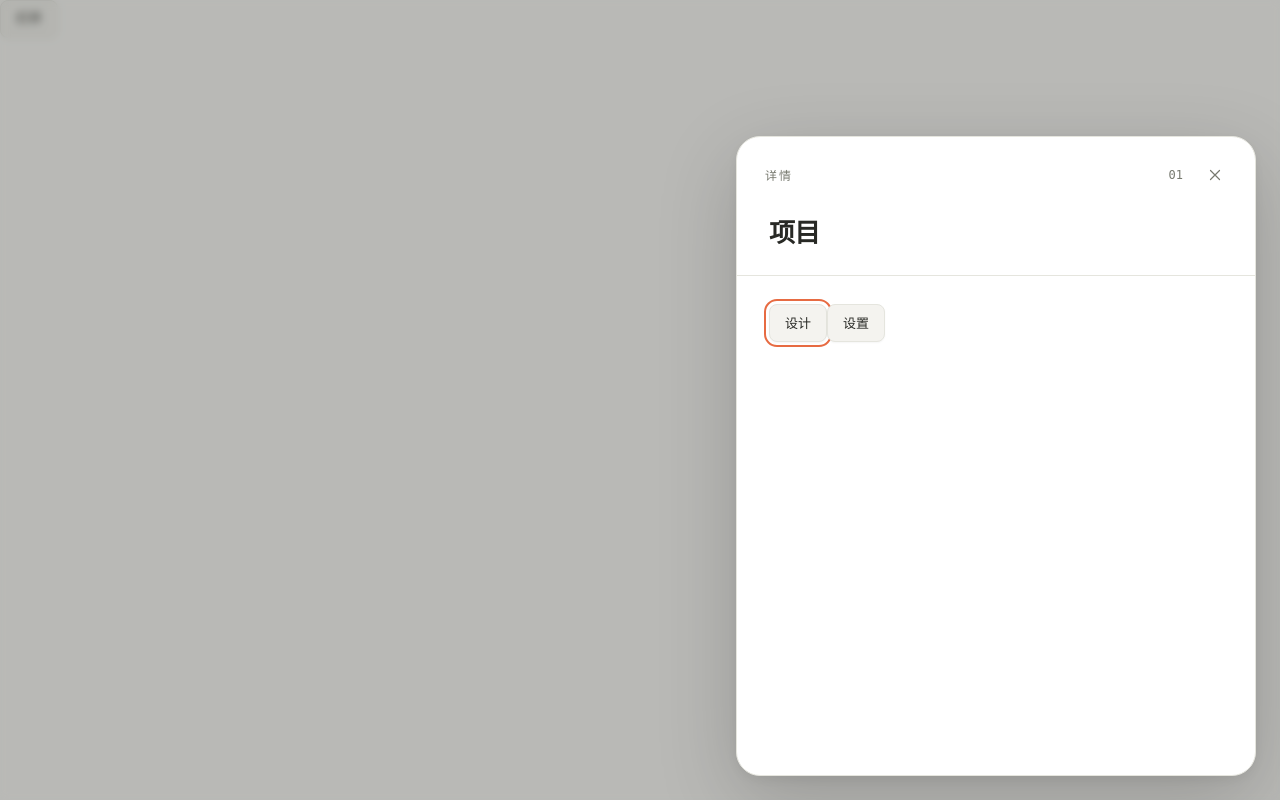
Test case: supports controlled dismissal, defaultOpen and independent sibling drawers
Expected: the dialog "项目" is shown, [736,136,1256,776]
Click the button "设置".
click(856, 323)  # box [827,304,885,342]
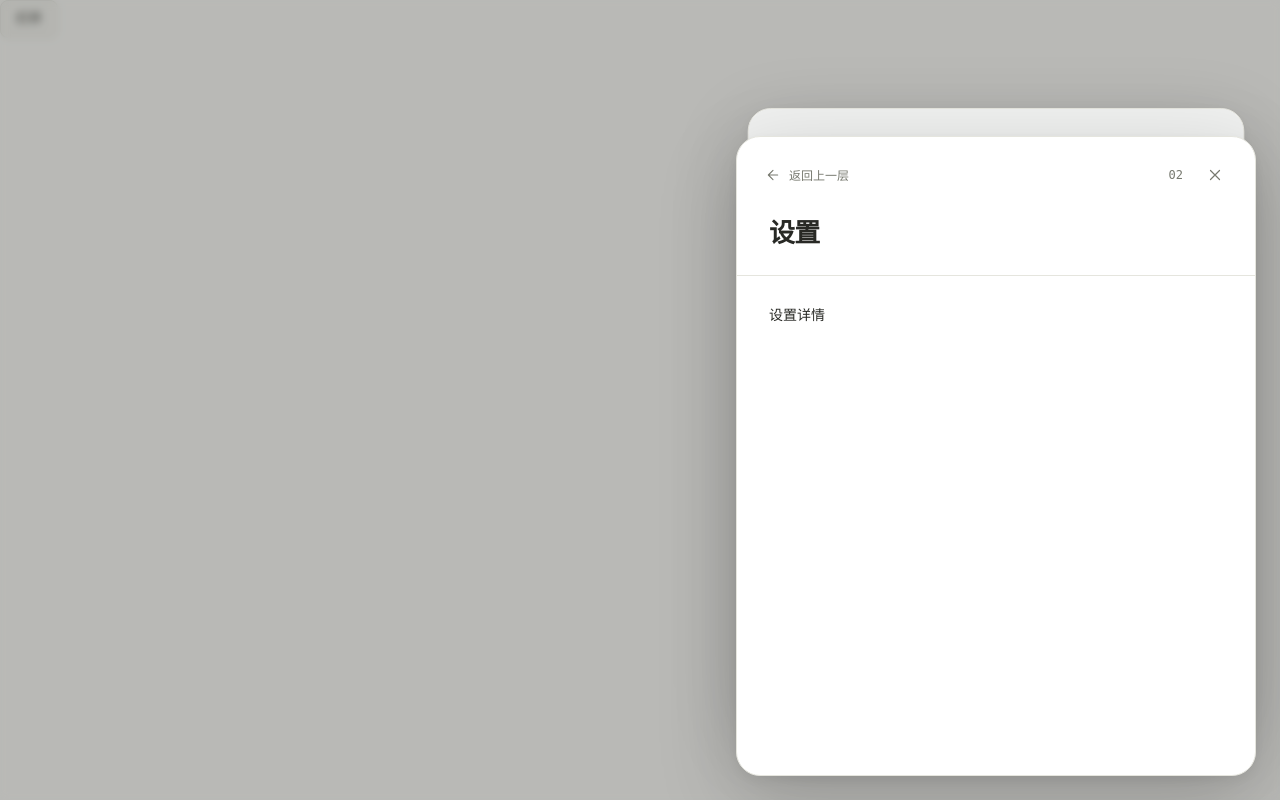
Now the dialog "设置" is shown, box [736,136,1256,776]
Press Escape
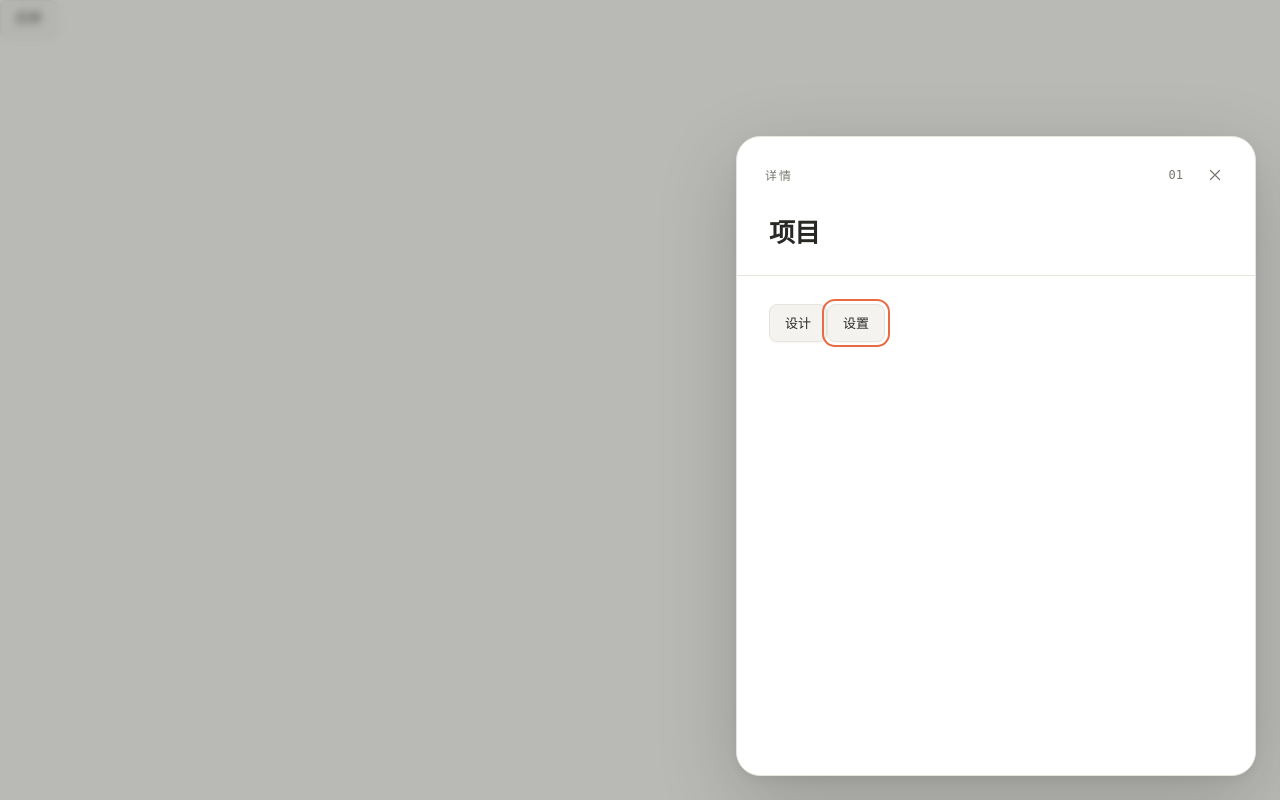
Now the dialog "项目" does not have attribute inert, box [736,136,1256,776]
Press Escape
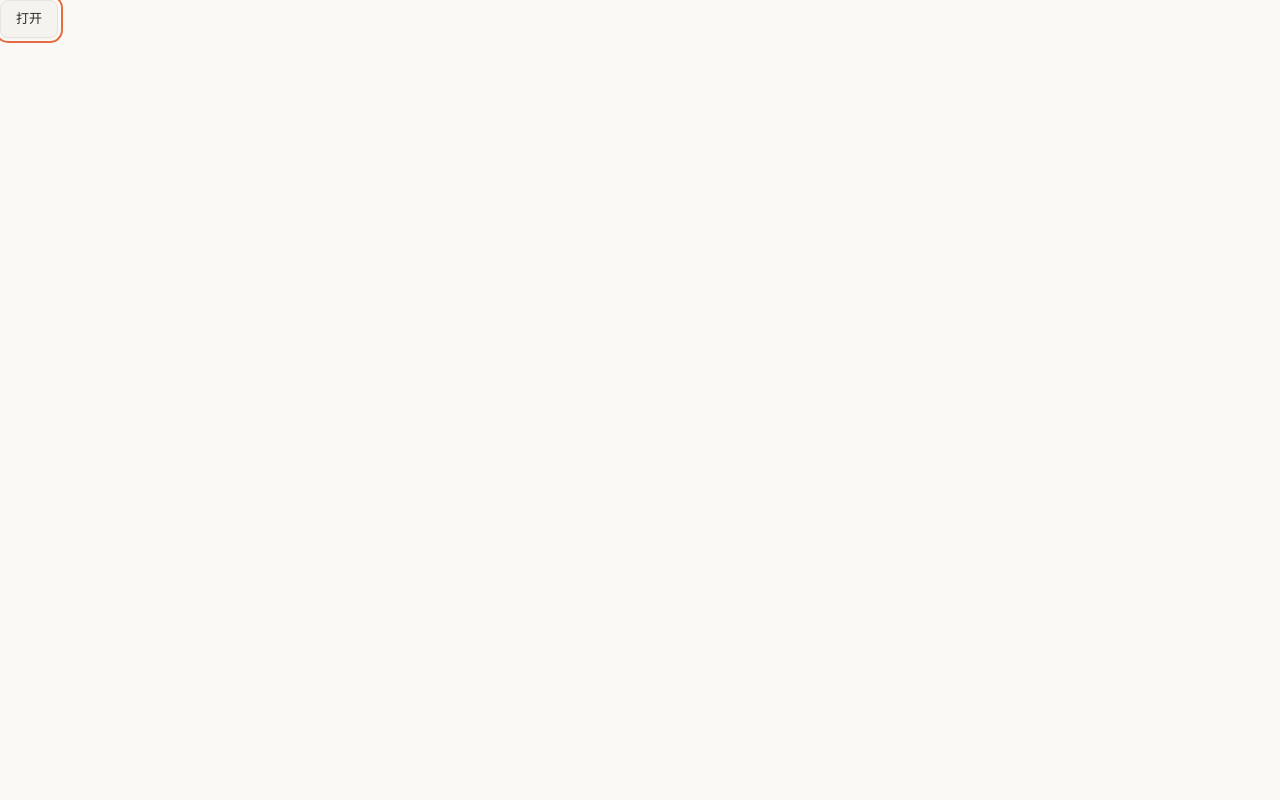
Now the dialog is gone
